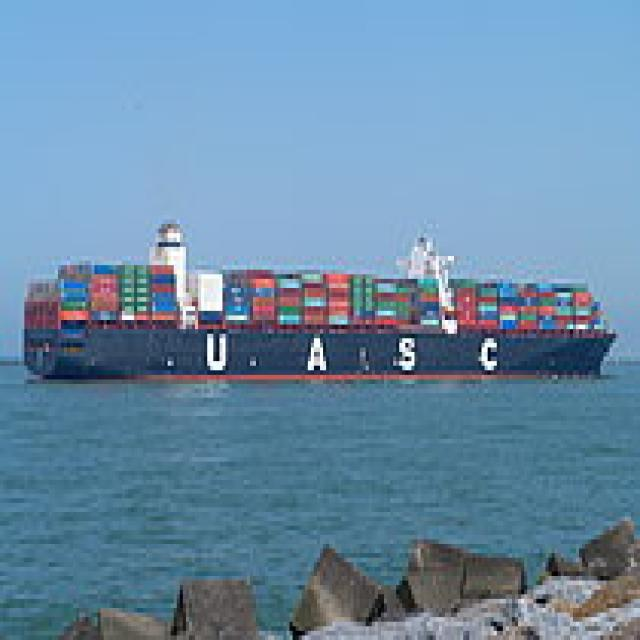Ship: (22, 202, 626, 408)
